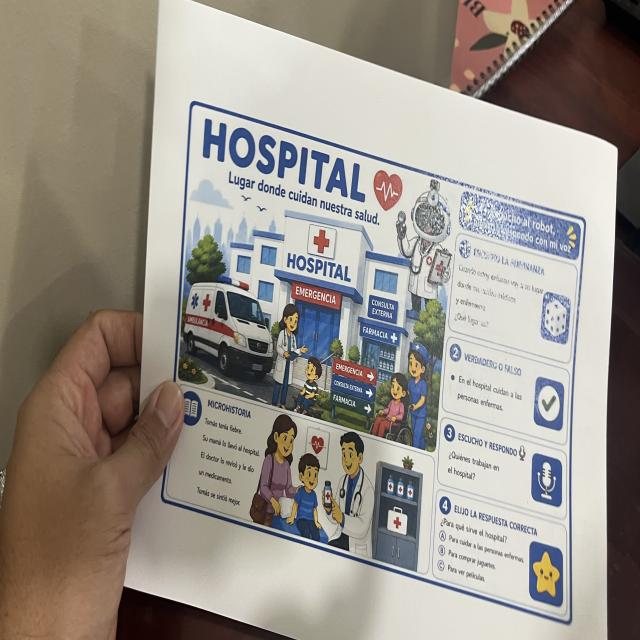hospital: (158, 96, 588, 629)
